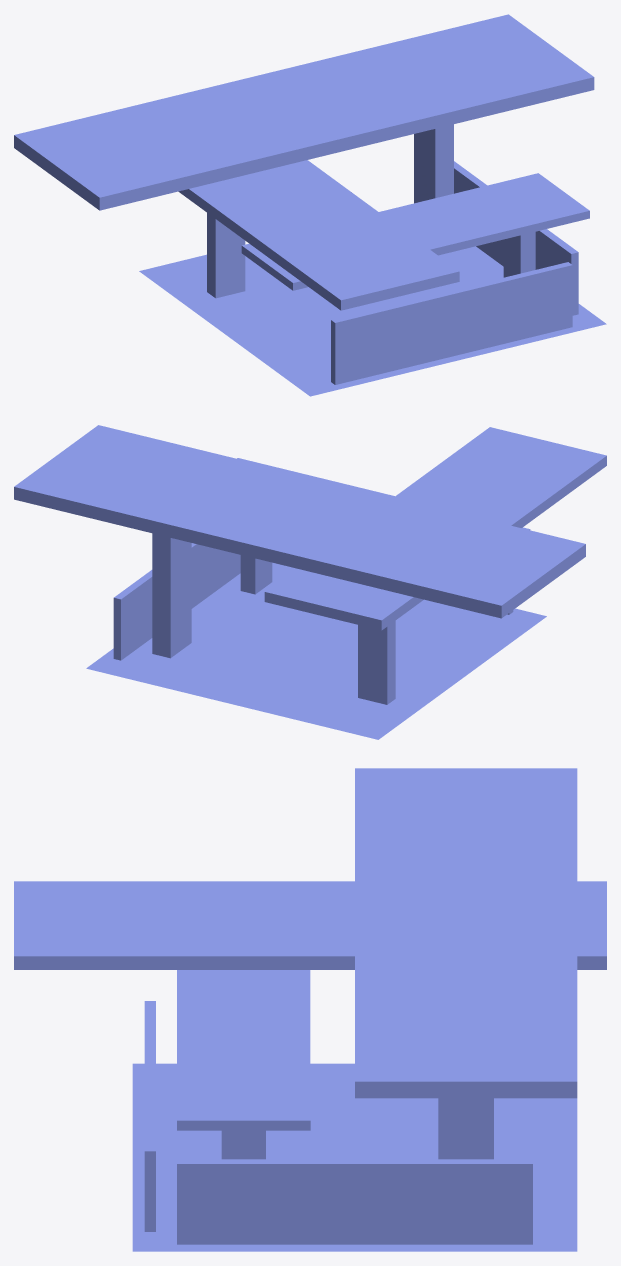
File: map.fbx
3 renders of one model, top to bottom at view 1: azimuth 30°, elevation 25°; view 2: azimuth 150°, elevation 25°; view 3: azimuth 270°, elevation 25°, orthographic. The views are drawn at different scales.
Parts seen in each view (by area): view 1: 05.1, 03.1, 01, 04, 05, 02.1, 03, 02, 04--1; view 2: 05.1, 01, 03.1, 05, 03, 04--1, 02; view 3: 05.1, 01, 04--1, 03.1, 02.1, 05, 03, 02, 04.
Boxes of the visible parts, x1,y1,x2,y2 form: 05.1: (14, 14, 593, 197); 03.1: (189, 160, 459, 300); 01: (139, 246, 606, 396); 04: (331, 262, 572, 384); 05: (14, 77, 594, 210); 02.1: (242, 173, 589, 282); 03: (178, 189, 459, 310); 02: (241, 210, 589, 290); 04--1: (454, 161, 578, 315); 05.1: (14, 425, 585, 605); 01: (86, 562, 546, 739); 03.1: (265, 427, 606, 620); 05: (14, 487, 585, 658); 03: (264, 456, 606, 704); 04--1: (113, 543, 240, 660); 02: (240, 529, 530, 594); 05.1: (355, 768, 577, 1081); 01: (132, 1063, 577, 1251); 04--1: (177, 1159, 532, 1244); 03.1: (14, 881, 606, 956); 02.1: (177, 970, 310, 1120); 05: (355, 1081, 577, 1159); 03: (14, 956, 606, 969); 02: (177, 1120, 310, 1159); 04: (144, 1001, 155, 1231).
Bounding box in the file's own units: 1667 × 536 × 1333.
